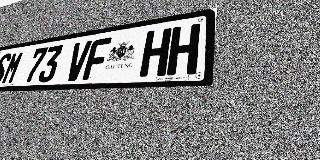3: (37, 45, 64, 83)
7: (22, 47, 49, 83)
F: (82, 37, 112, 80)
H: (166, 23, 201, 76), (139, 28, 172, 77)
M: (0, 51, 25, 85)
S: (0, 53, 13, 85)
V: (64, 40, 92, 81)
